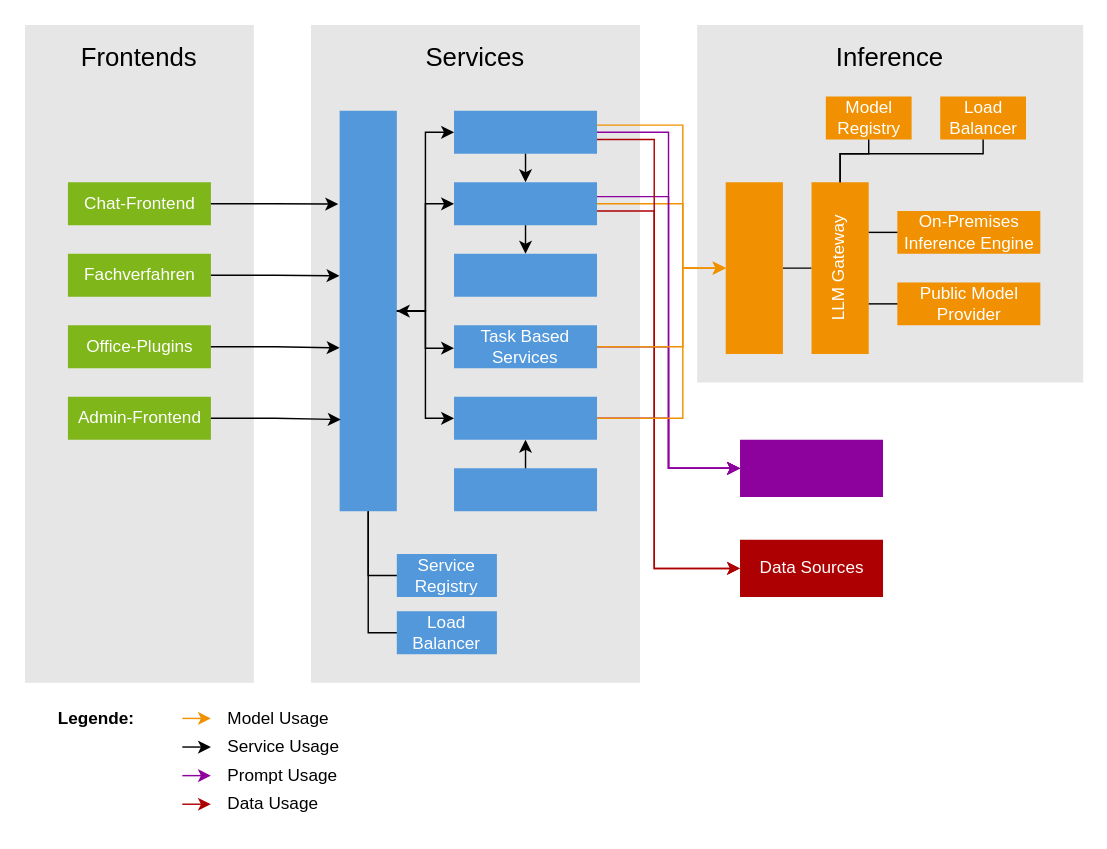
The diagram is 1107 pixels wide and 849 high, and some of its shapes have lost their labels. Here are the shapes that lost their labels. From the top down, the centre of each, then its label:
At [524,131]: "RAG".
At [524,203]: "Model Context Protocol Server".
At [524,274]: "Tools".
At [753,267]: "OpenAI API".
At [367,310]: "API Gateway".
At [524,417]: "Agents".
At [810,467]: "Prompt Store".
At [524,489]: "Orchestration".
